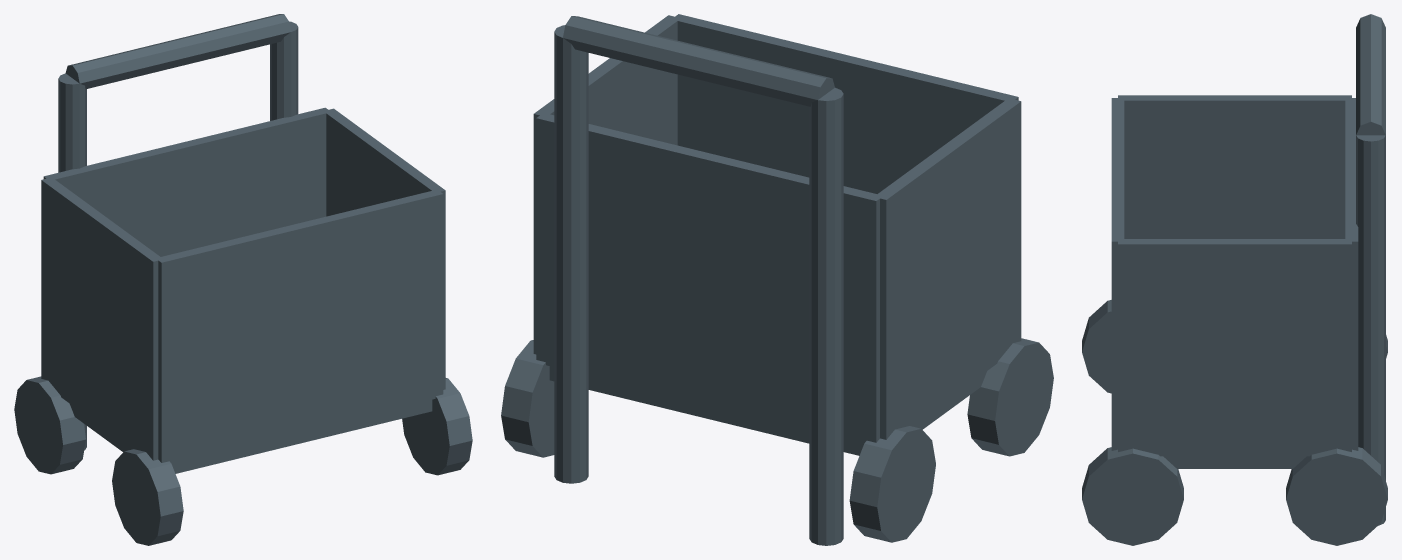
File: ball-cart-abb2cbb4.glb
3 views of the same model, side by side, from view 1: azimuth 30°, elevation 25°; view 2: azimuth 150°, elevation 25°; view 3: azimuth 270°, elevation 25° (orthographic). The views are drawn at different scales.
Visible parts, largest first — view 1: ball-cart, wheel--0.41-0.24, wheel--0.41--0.24, wheel-0.41-0.24; view 2: ball-cart, wheel--0.41--0.24, wheel--0.41-0.24, wheel-0.41--0.24; view 3: ball-cart, wheel-0.41--0.24, wheel-0.41-0.24, wheel--0.41-0.24.
Boxes of the visible parts, <box> form: ball-cart: <box>41,14,445,473</box>; wheel--0.41-0.24: <box>112,449,183,545</box>; wheel--0.41--0.24: <box>14,376,85,474</box>; wheel-0.41-0.24: <box>402,378,472,475</box>; ball-cart: <box>533,14,1021,545</box>; wheel--0.41--0.24: <box>849,426,935,542</box>; wheel--0.41-0.24: <box>967,338,1053,456</box>; wheel-0.41--0.24: <box>501,340,554,457</box>; ball-cart: <box>1111,14,1385,525</box>; wheel-0.41--0.24: <box>1286,447,1387,545</box>; wheel-0.41-0.24: <box>1082,447,1183,545</box>; wheel--0.41-0.24: <box>1082,300,1111,393</box>.
Size of the model in its own units: 0.885 by 1.03 by 0.72.
